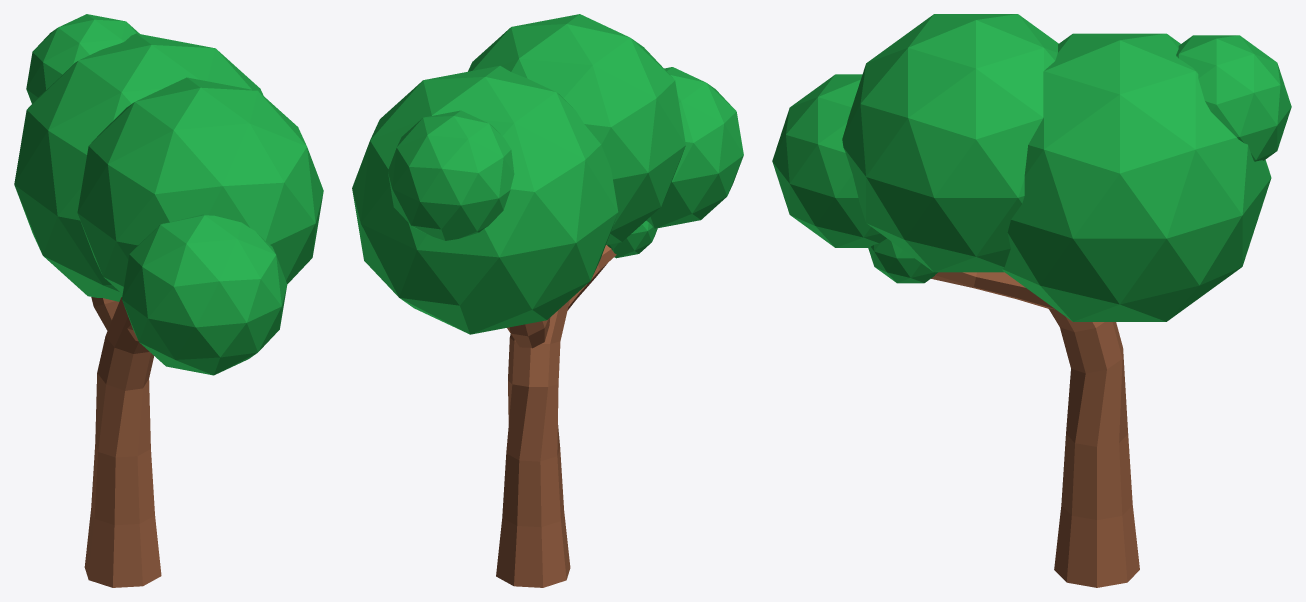
File: Tree1_1.obj
3 views of the same model, side by side, from view 1: azimuth 30°, elevation 25°; view 2: azimuth 150°, elevation 25°; view 3: azimuth 270°, elevation 25° (orthographic). The views are drawn at different scales.
Parts seen in each view (by area): view 1: Icosphere.004; view 2: Icosphere.004; view 3: Icosphere.004.
Boxes of the visible parts, box(x1,y1,x2,y2) form: Icosphere.004: box(14, 14, 323, 587); Icosphere.004: box(352, 14, 743, 587); Icosphere.004: box(772, 14, 1291, 587).
Bounding box in the file's own units: 20.19 × 39.92 × 33.5.
Materials: 1 (1 with a texture image).
